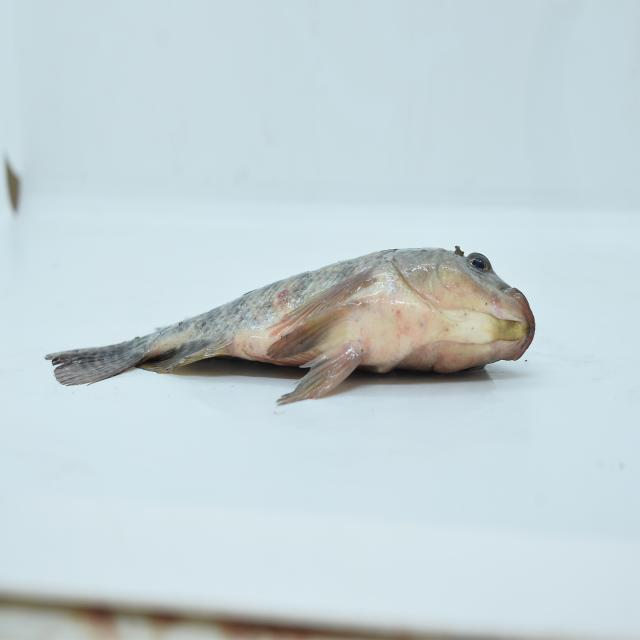Columnaris Disease: (44, 226, 564, 403)
